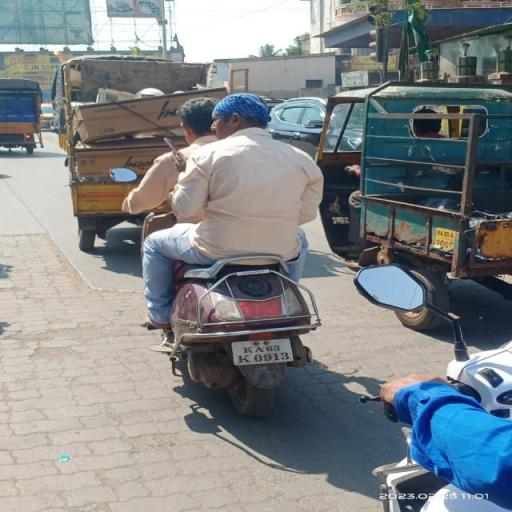bike: (113, 88, 336, 422)
numberplate: (228, 334, 298, 368)
withouthelmet: (216, 94, 269, 135), (176, 99, 214, 141)
